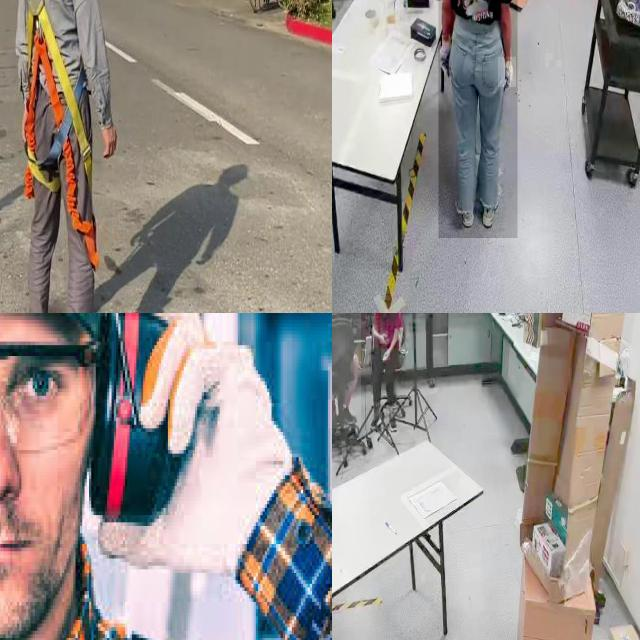Ear-protection: (0, 313, 183, 534)
Harness: (29, 0, 92, 180), (25, 36, 93, 192), (56, 130, 100, 270)
hand_glove: (438, 41, 456, 79), (498, 56, 516, 88)
hand_noglove: (379, 331, 389, 345), (381, 348, 391, 361)
person: (438, 0, 517, 238), (370, 313, 406, 423), (332, 313, 361, 429)
shoes: (476, 175, 506, 228), (455, 182, 481, 236), (336, 397, 358, 430)
